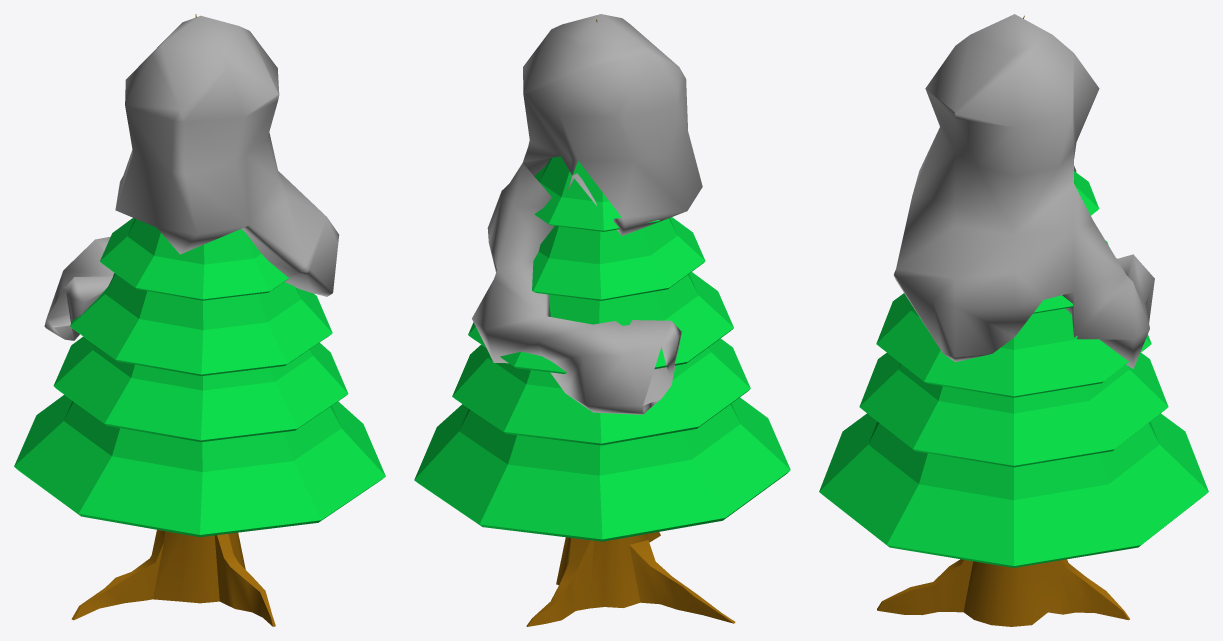
The model's file is PinetreeSnow.fbx.
The picture shows the model from 3 angles, left to right: view 1: azimuth 30°, elevation 25°; view 2: azimuth 150°, elevation 25°; view 3: azimuth 270°, elevation 25°; orthographic projection. The views are drawn at different scales.
Parts seen in each view (by area): view 1: polySurface1, pCone1, pasted__pCone1, pasted__pasted__pCone1, pasted__pasted__pasted__pCone1, pCylinder1; view 2: polySurface1, pCone1, pasted__pCone1, pasted__pasted__pasted__pCone1 (×2), pCylinder1, pasted__pasted__pCone1; view 3: polySurface1, pCone1, pasted__pCone1, pasted__pasted__pCone1, pCylinder1.
Part boxes in pixels (left/top/right/bottom): polySurface1: left=44, top=15, right=339, bottom=340; pCone1: left=14, top=395, right=385, bottom=537; pasted__pCone1: left=53, top=336, right=348, bottom=442; pasted__pasted__pCone1: left=70, top=273, right=332, bottom=375; pasted__pasted__pasted__pCone1: left=100, top=218, right=289, bottom=300; pCylinder1: left=71, top=14, right=275, bottom=626; polySurface1: left=472, top=14, right=702, bottom=414; pCone1: left=414, top=397, right=790, bottom=541; pasted__pCone1: left=452, top=338, right=750, bottom=445; pasted__pasted__pasted__pCone1 (×2): left=532, top=156, right=705, bottom=300; pCylinder1: left=526, top=19, right=735, bottom=626; pasted__pasted__pCone1: left=468, top=272, right=733, bottom=373; polySurface1: left=893, top=14, right=1154, bottom=368; pCone1: left=819, top=413, right=1208, bottom=567; pasted__pCone1: left=859, top=353, right=1168, bottom=467; pasted__pasted__pCone1: left=876, top=293, right=1151, bottom=397; pCylinder1: left=877, top=15, right=1129, bottom=626.
Size of the model in its own units: 3.1 by 5.34 by 3.15.
